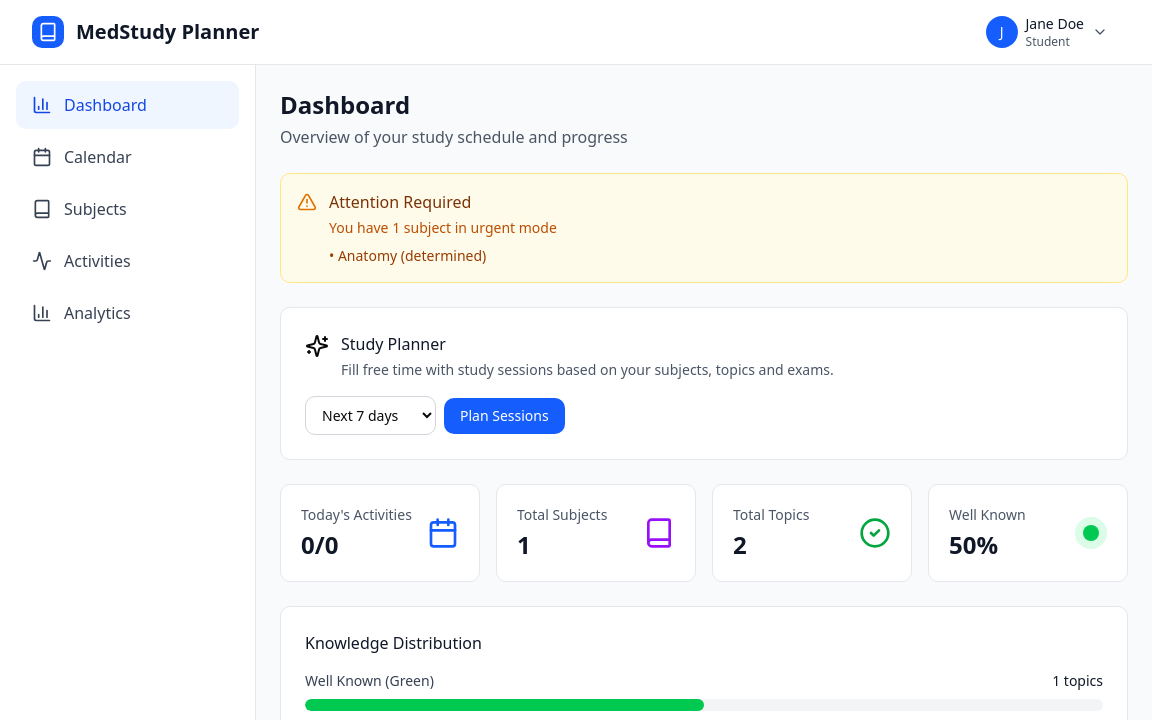
Test case: SubjectsView › lists subjects with their mode, strategy, exam and knowledge counts
Expected: the heading "Dashboard" is shown, [280, 88, 410, 121]
Click the button "Subjects".
click(128, 209)  # box [16, 185, 239, 233]
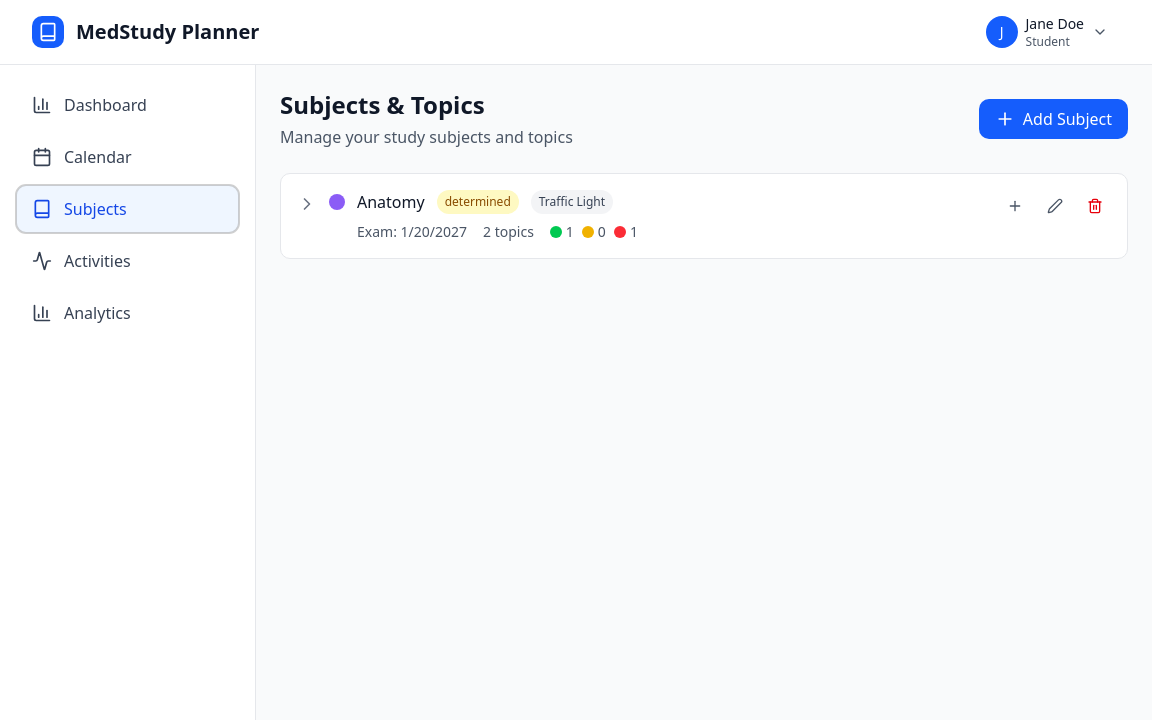
Expected: the heading "Anatomy" is shown, [357, 190, 425, 214]
Expected: the text "Traffic Light" is shown, [531, 190, 613, 214]
Expected: the text "2 topics" is shown, [483, 222, 534, 242]
